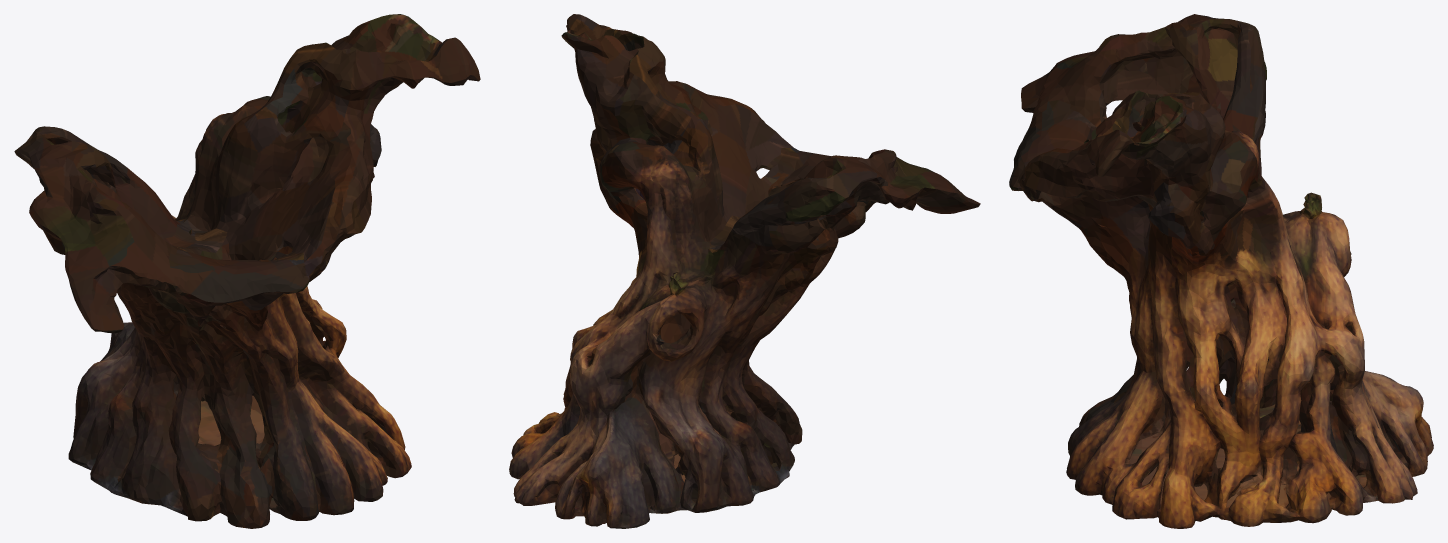
Rendered from veg_olive__fixed.glb.
3 views of the same model, side by side, from view 1: azimuth 30°, elevation 25°; view 2: azimuth 150°, elevation 25°; view 3: azimuth 270°, elevation 25° (orthographic). The views are drawn at different scales.
Parts seen in each view (by area): view 1: world; view 2: world; view 3: world.
Part boxes in pixels (left/top/right/bottom): world: left=14, top=14, right=480, bottom=528; world: left=509, top=14, right=980, bottom=528; world: left=1009, top=14, right=1433, bottom=528.
Bounding box in the file's own units: 0.9206 × 0.894 × 0.8257.
Materials: 1 (1 with a texture image).
